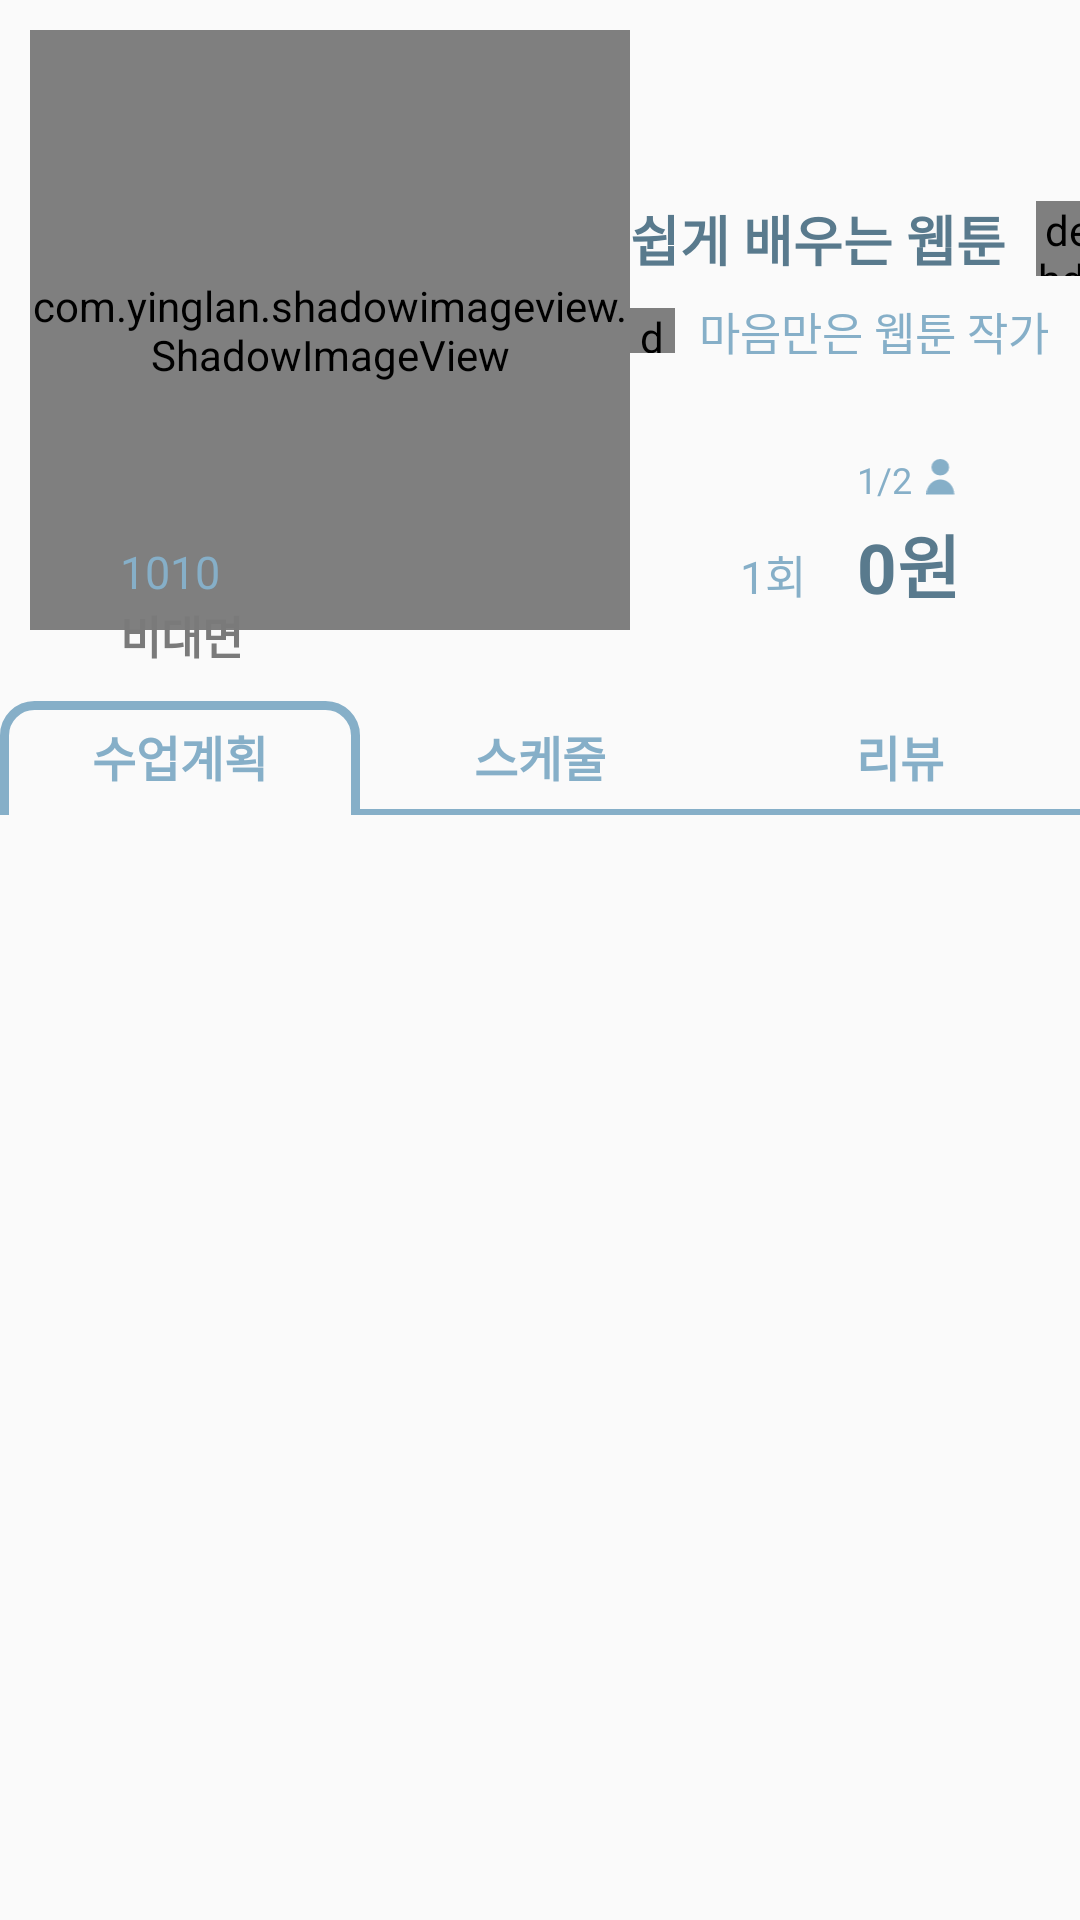

Where icons sit on this 1080px×1920px app screen, as box=[x1, y1, x2, y2]:
person: box=[926, 459, 955, 495]
